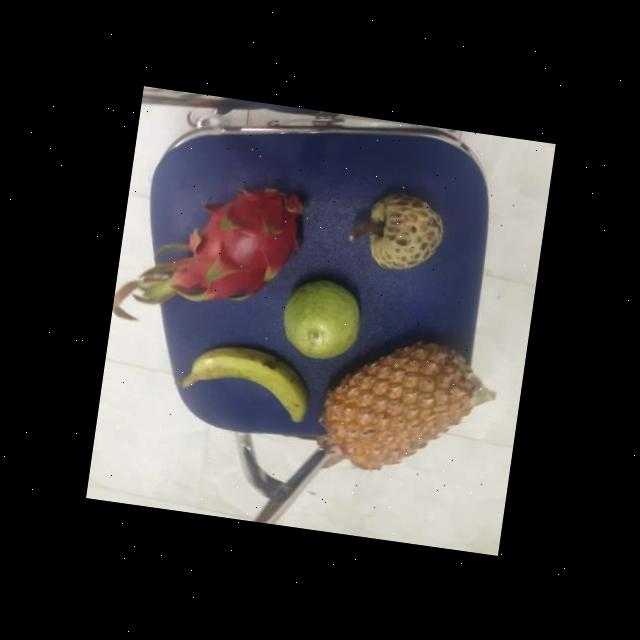Sakya fruit: (352, 186, 453, 274)
banana: (182, 336, 323, 434)
guava: (279, 274, 369, 363)
pineapple: (319, 324, 489, 480)
pitaya: (184, 176, 314, 308)
